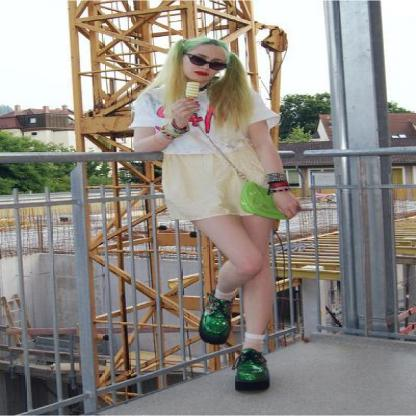bag: (241, 180, 279, 216)
shirt: (129, 83, 281, 155)
shoe: (199, 289, 269, 393)
skirt: (160, 145, 276, 223)
sunglass: (189, 58, 226, 76)
